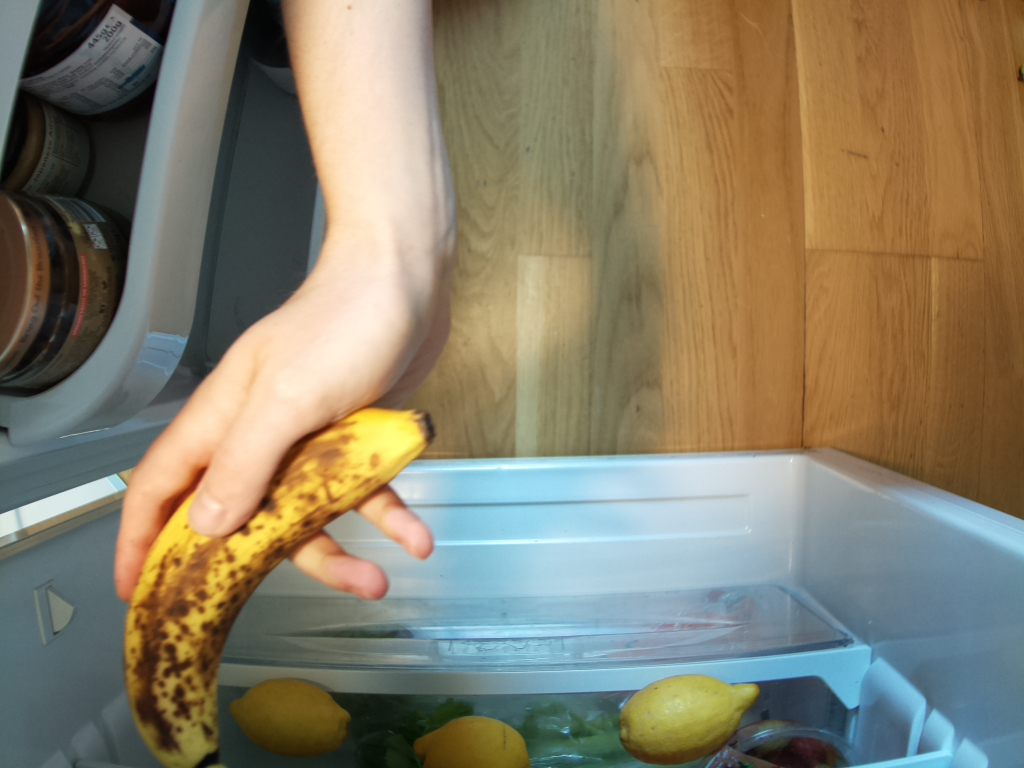banana-overripe: (117, 408, 438, 766)
